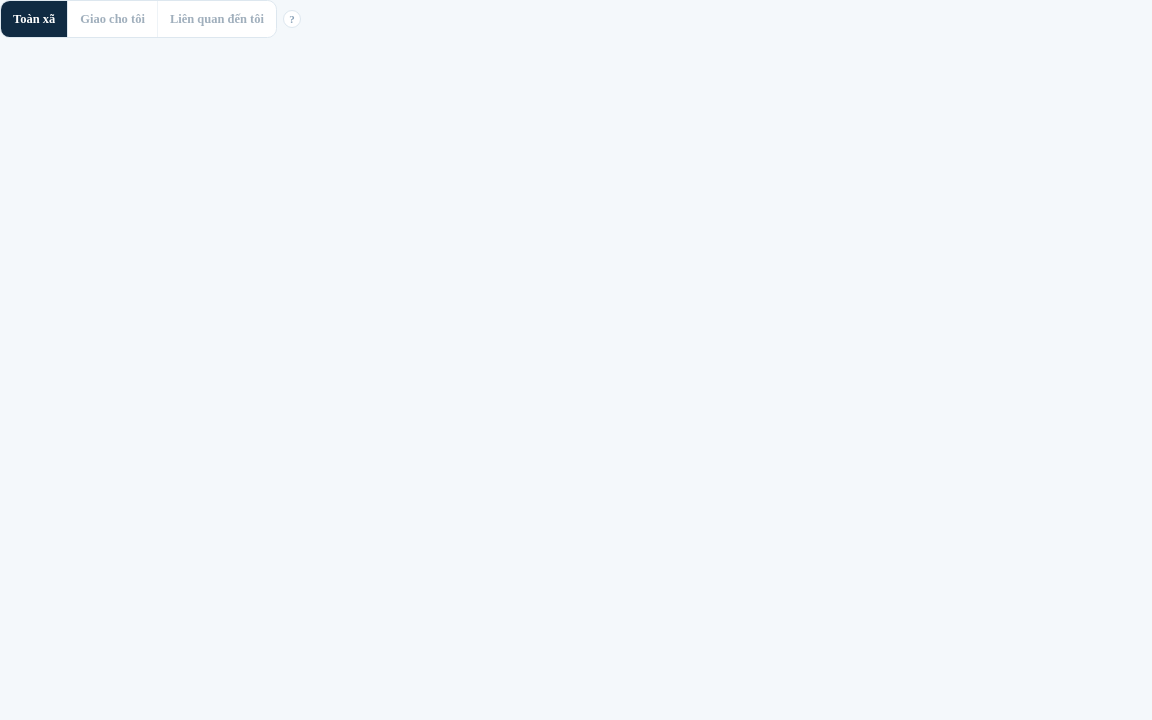
Test: chỗ giữ “?” của màn Văn bản & Đơn thư (ADR 0068 §14) › phạm vi của prototype: “Toàn xã” đang bấm, hai lựa chọn kia vô hiệu, MỘT “?”
Click the button "?" at [292, 19], box [283,10,301,28]
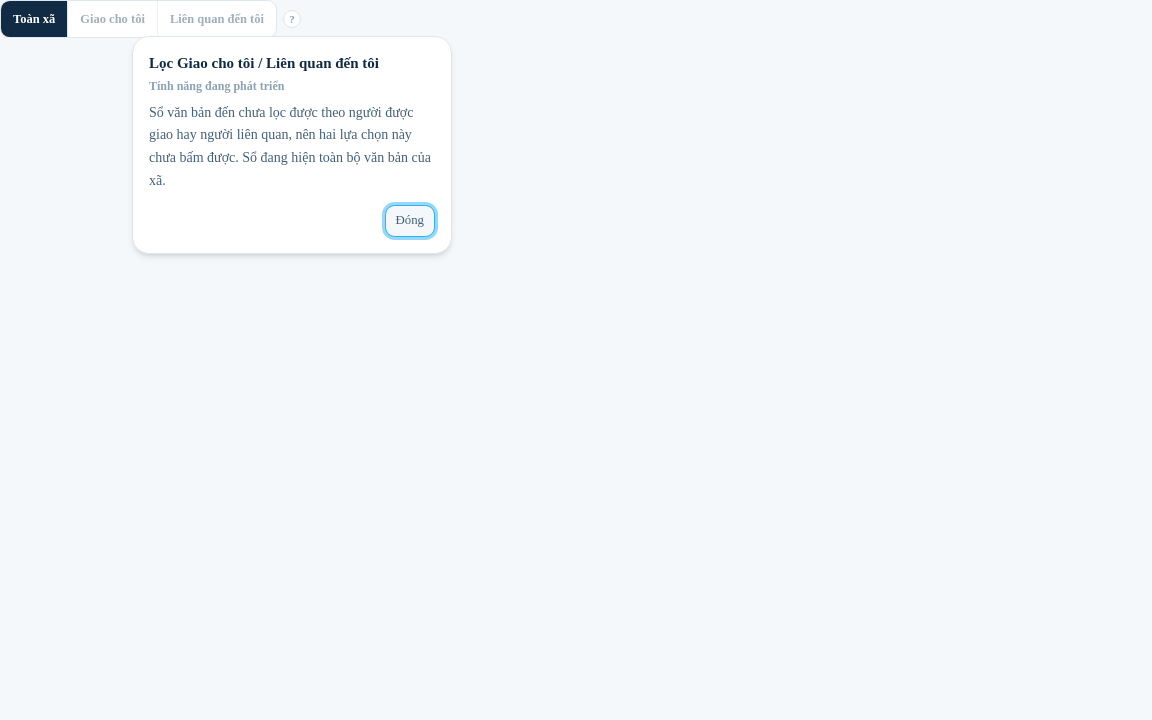
Now the dialog shows "Sổ đang hiện toàn bộ văn bản của xã", box [149,105,431,188]
